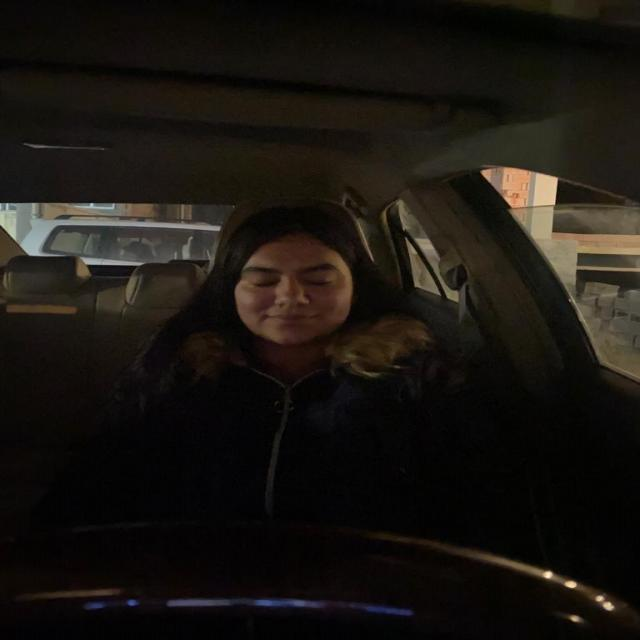drowsy: (224, 202, 400, 348)
